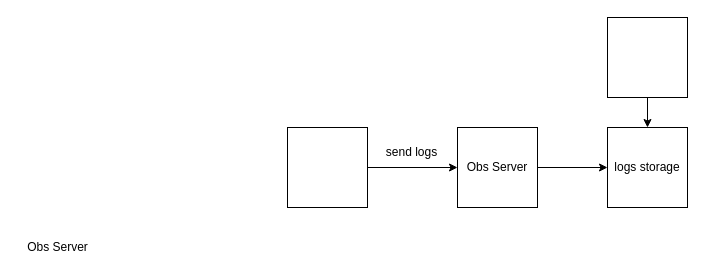
The diagram is 705 pixels wide and 280 high, and some of its shapes have lost their labels. Here are the shapes that lost their labels. From the top down, the centre of each, then its label:
At point (647, 57): "UI".
At point (327, 167): "Application".
